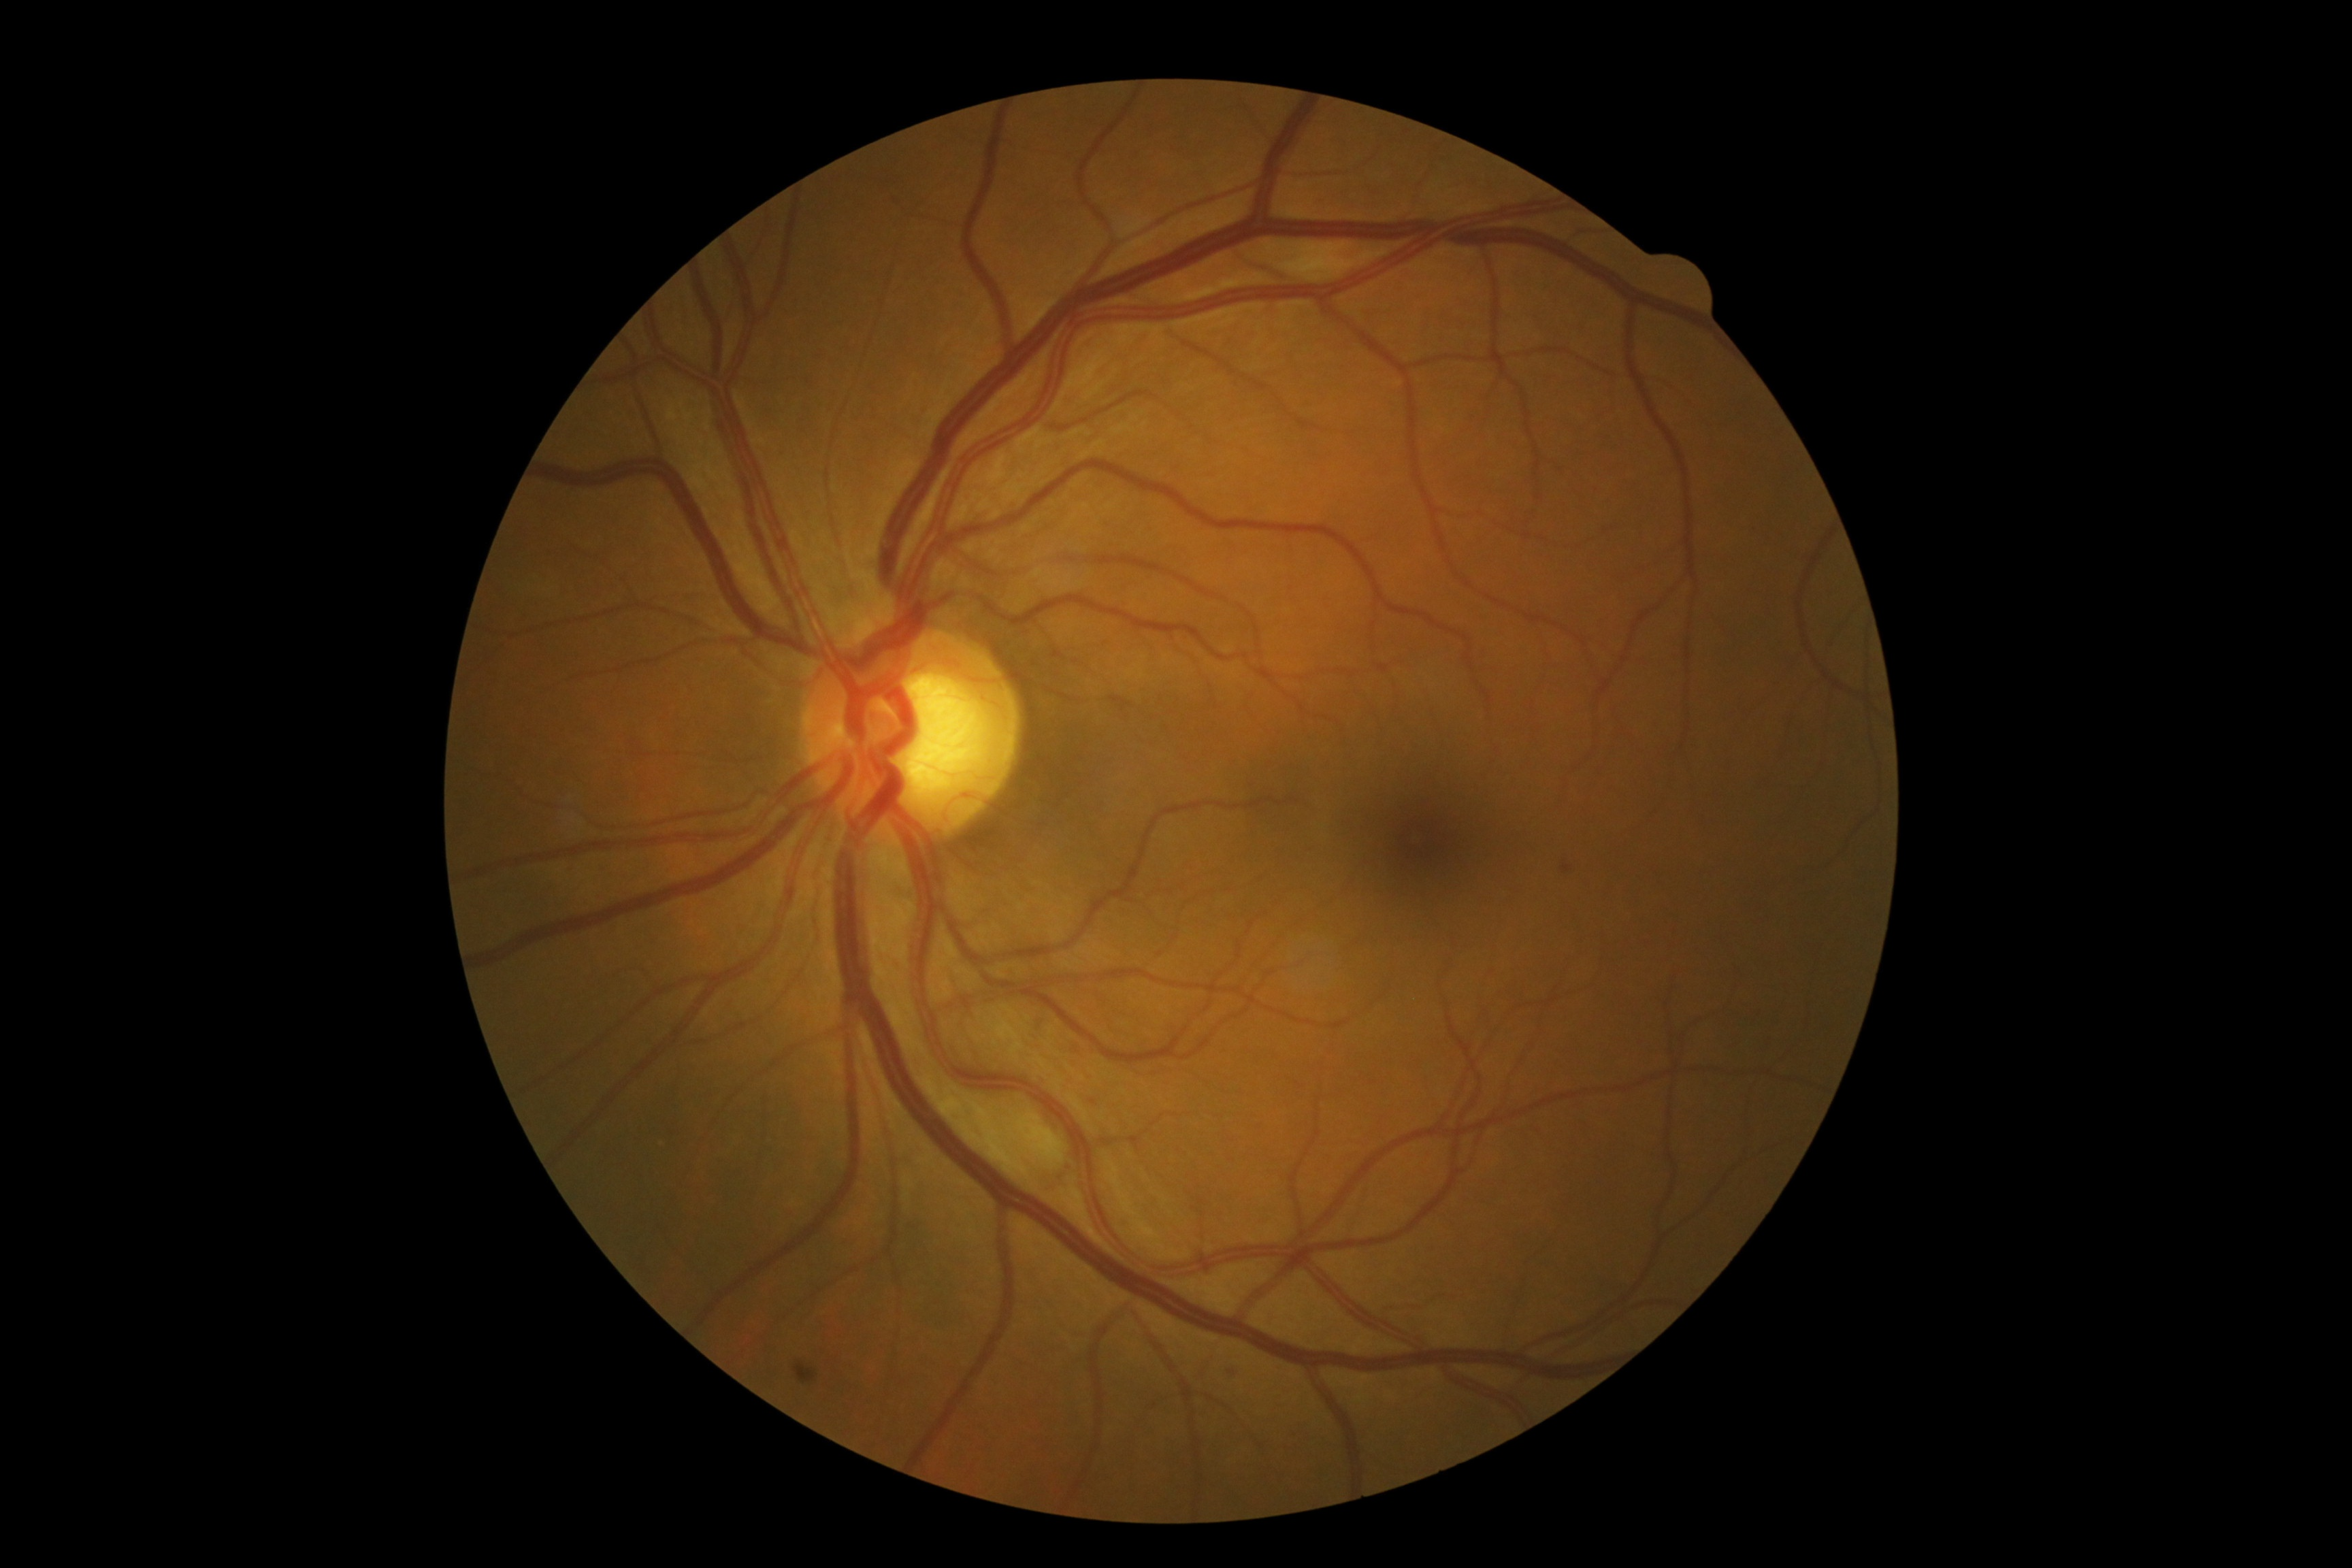Fovea: (1351, 768, 1494, 915)
OD: (791, 611, 1031, 859)
